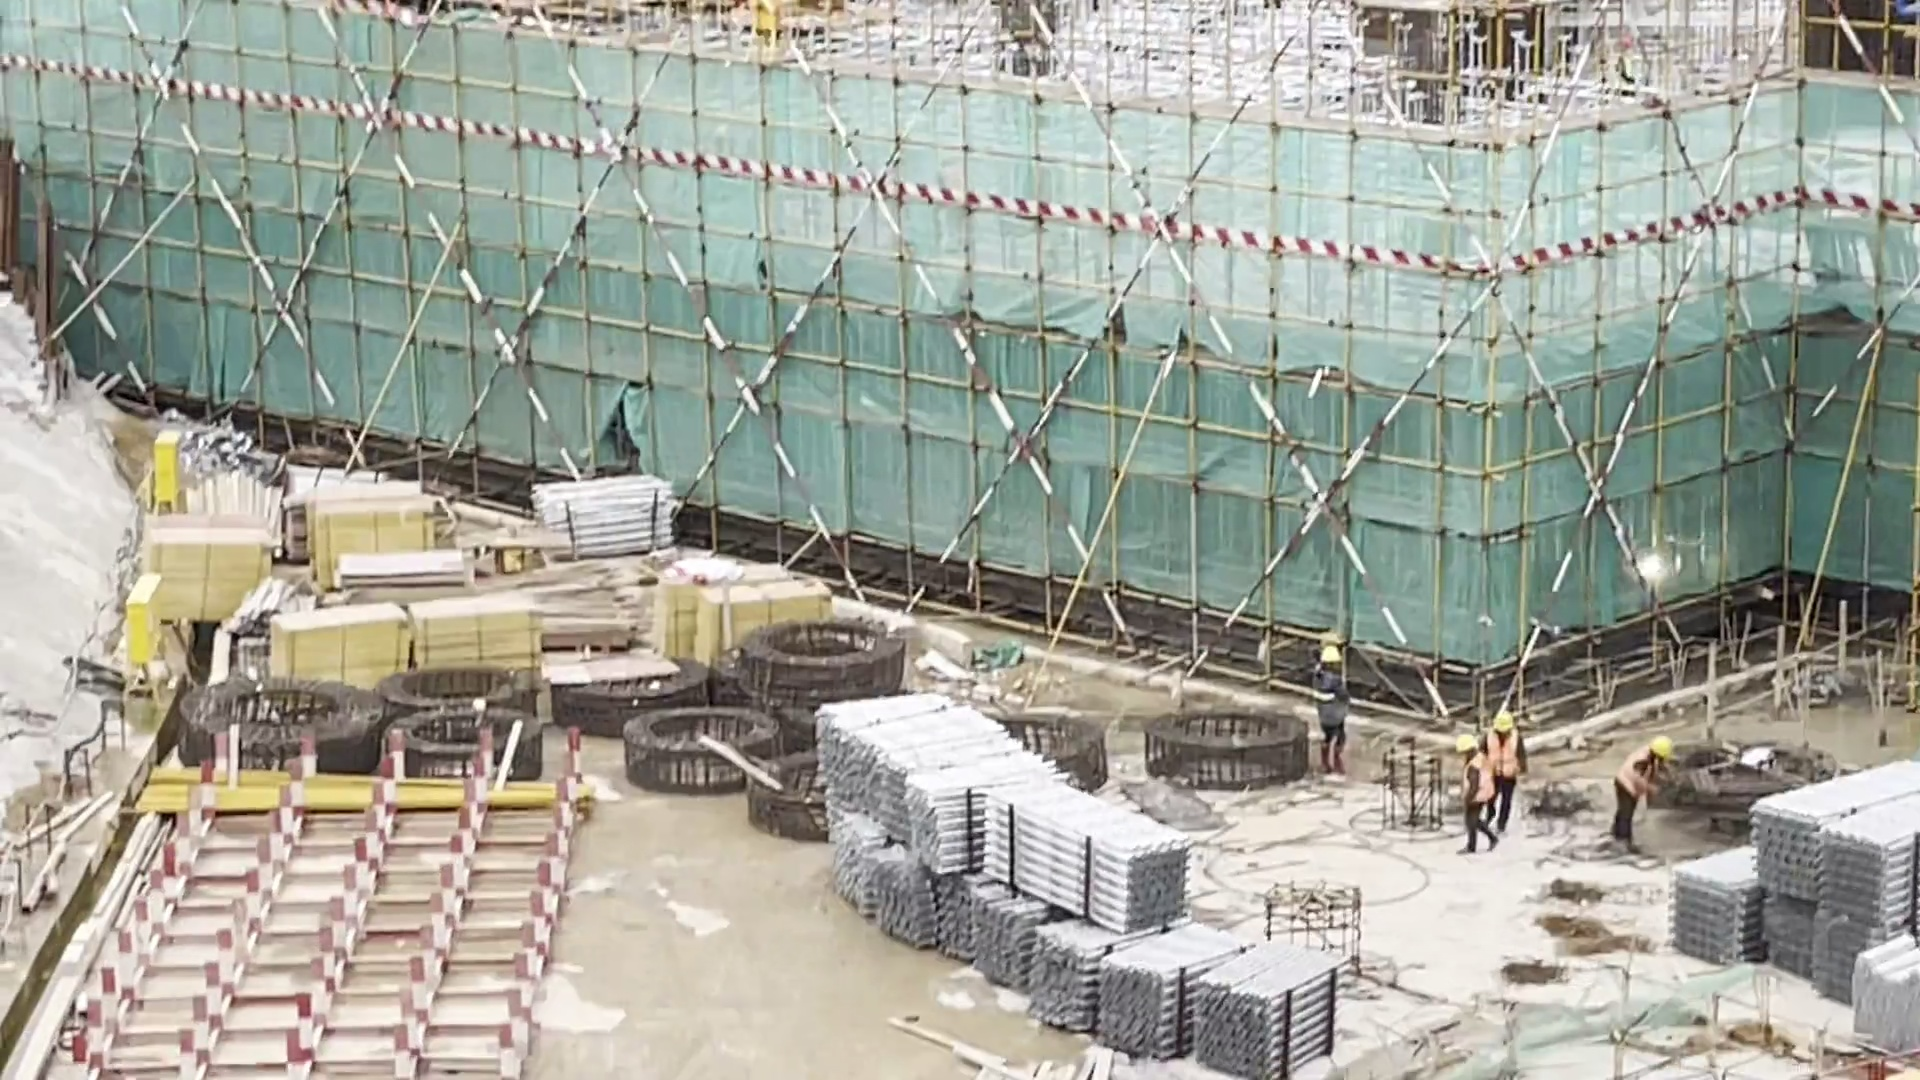board: (660, 576, 829, 663), (142, 520, 270, 623), (305, 497, 442, 590), (408, 598, 549, 678), (281, 605, 418, 680), (347, 545, 476, 595)
person: (1608, 724, 1670, 857), (1446, 727, 1498, 851), (1482, 706, 1525, 837), (1313, 634, 1352, 779)
scaffold: (820, 700, 1354, 1077), (1671, 754, 1920, 1059)
vest: (1618, 748, 1659, 802), (1464, 757, 1499, 810), (1488, 729, 1523, 781)
wood: (516, 565, 661, 645)
